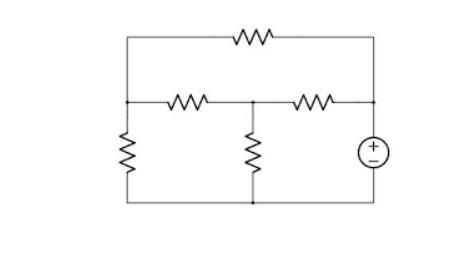resistor: (224, 18, 285, 57), (158, 81, 219, 119), (112, 122, 145, 181), (235, 122, 269, 179)
